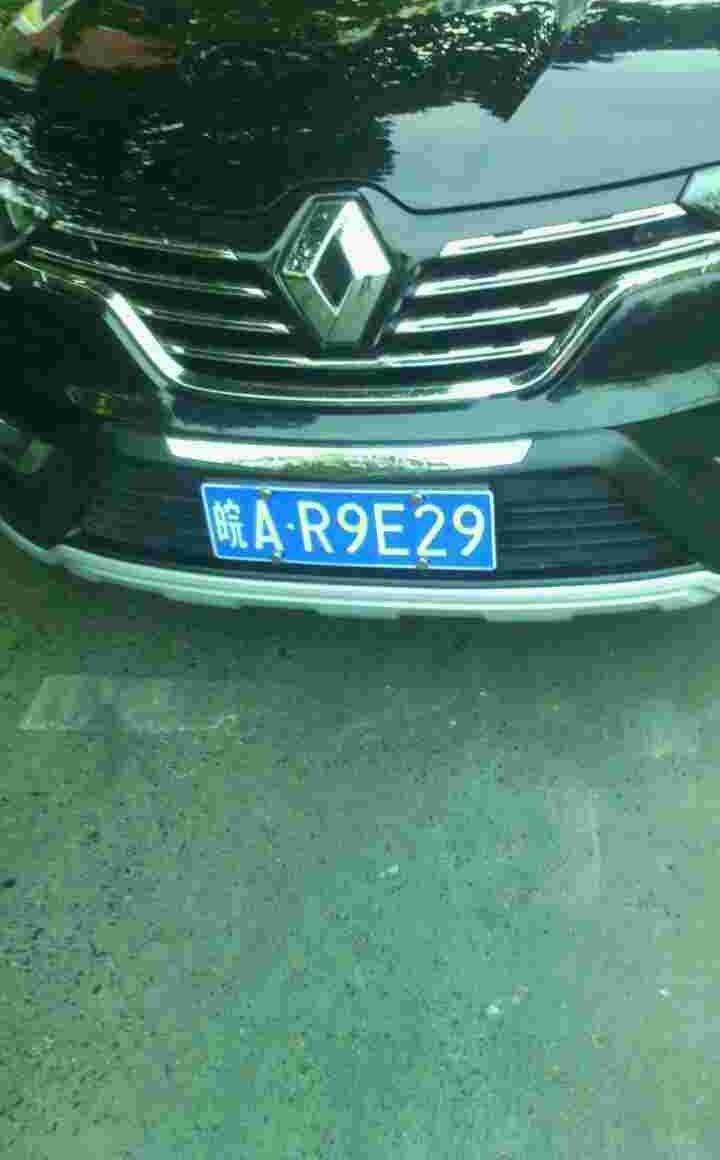license_plate: (215, 477, 506, 571)
